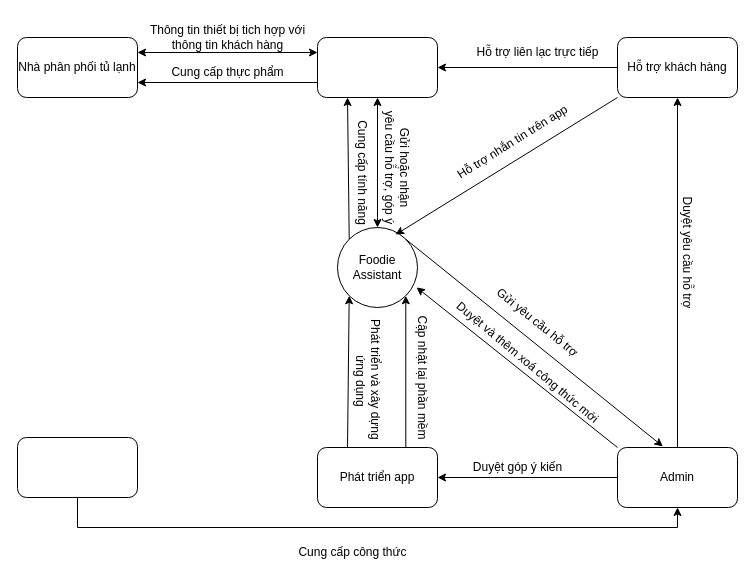
Image size: 755x584. Some labels were removed from this diagram. Each missing label, with the box of its shape:
Chuyên gia dinh dưỡng: (16, 436, 138, 498)
Khách hàng: (316, 36, 438, 98)
